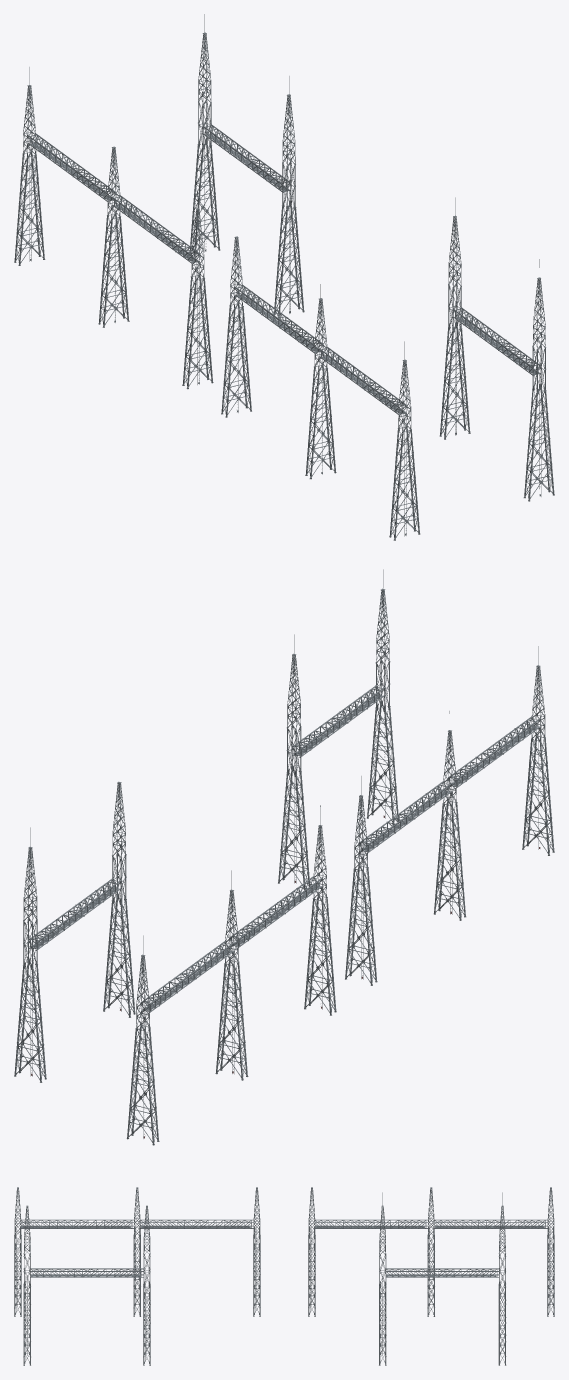
Rendered from GIS_LMJ.glb.
3 renders of one model, top to bottom at view 1: azimuth 30°, elevation 25°; view 2: azimuth 150°, elevation 25°; view 3: azimuth 270°, elevation 25°, orthographic. The views are drawn at different scales.
Parts seen in each view (by area): view 1: SM_GIS_LMJ_01; view 2: SM_GIS_LMJ_01; view 3: SM_GIS_LMJ_01.
Boxes of the visible parts, x1,y1,x2,y2 form: SM_GIS_LMJ_01: [14, 14, 554, 540]; SM_GIS_LMJ_01: [14, 569, 554, 1145]; SM_GIS_LMJ_01: [14, 1187, 554, 1365].
Size of the model in its own units: 60.85 by 82.36 by 239.
Materials: 3 (3 with a texture image).
